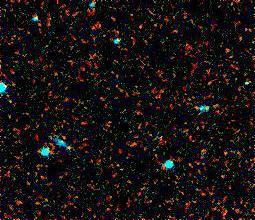star: (55, 136, 85, 166)
